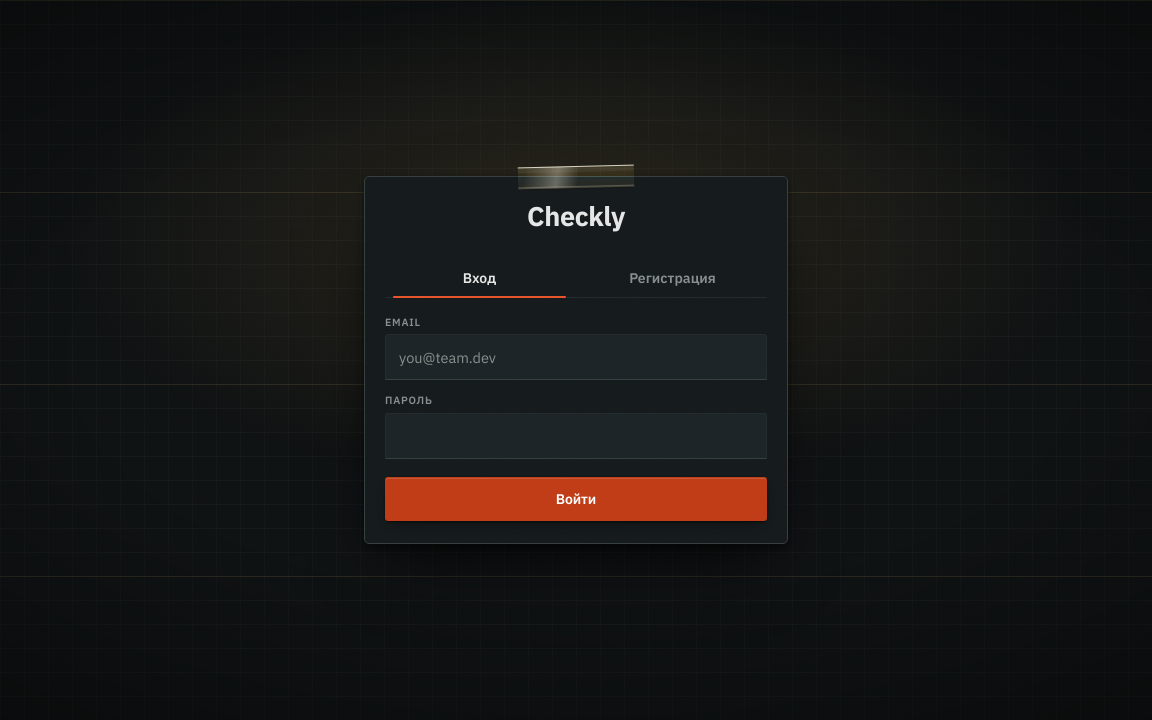
Test case: LoginPage › rejects a short password
The width and height of the screenshot is (1152, 720).
Type "a@b.com" into the field labelled "Email".
click(576, 357); type("a@b.com")  # box [385, 334, 767, 380]
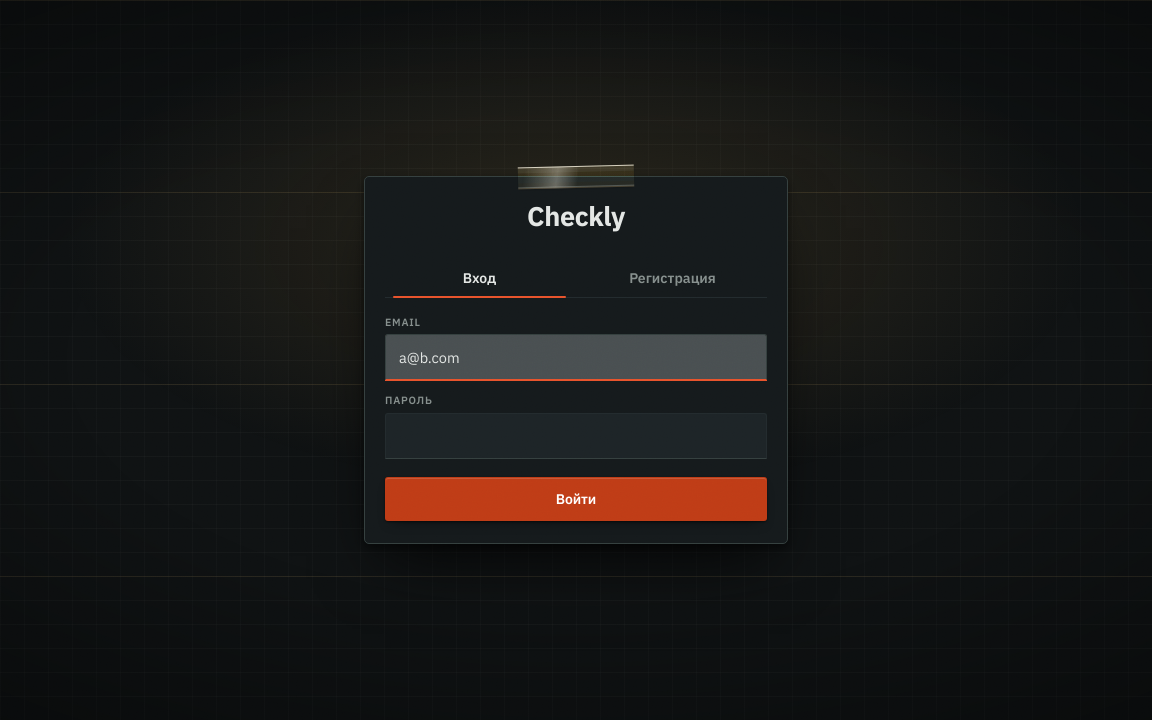
Type "123" into the password field labelled "Пароль".
click(576, 436); type("123")  # box [385, 413, 767, 459]
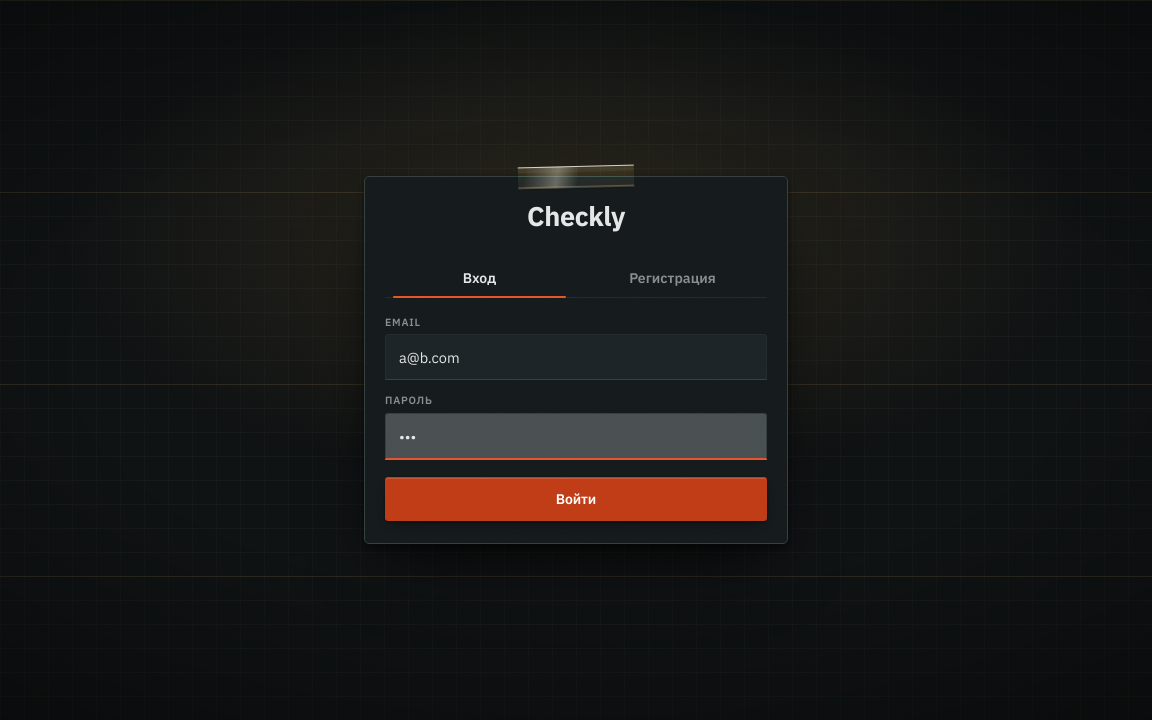
Click the button "Войти".
click(576, 499)  # box [385, 477, 767, 521]
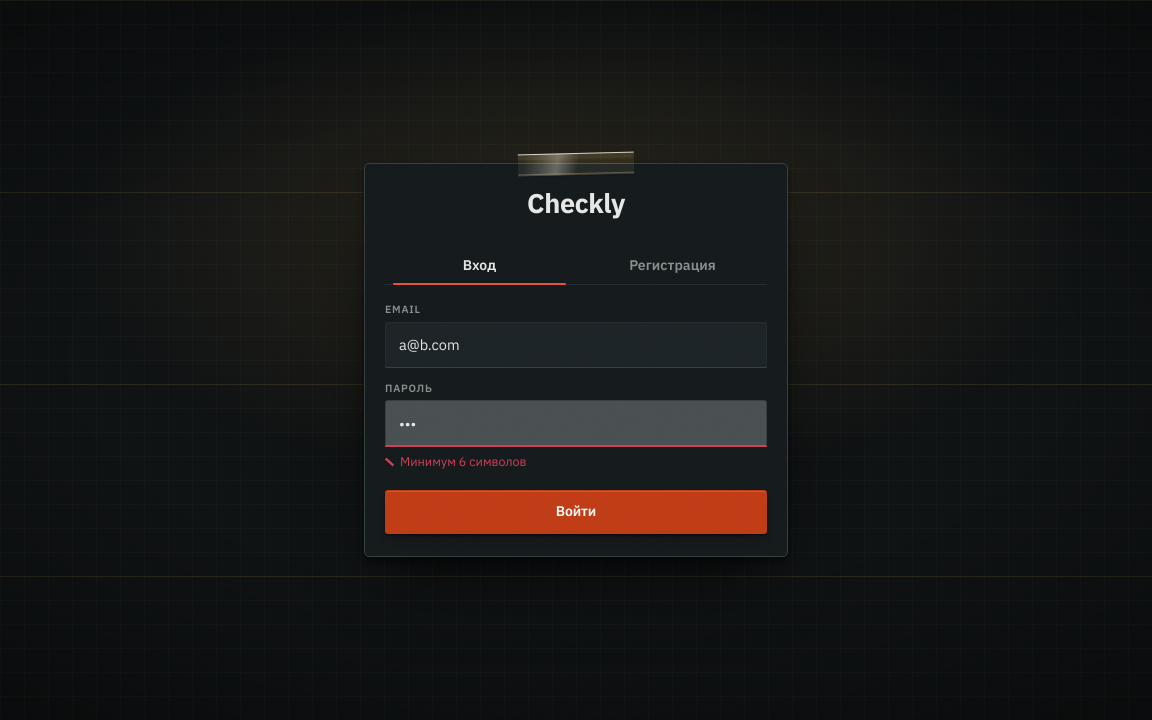
Check: the text "Минимум 6 символов" is shown, box [400, 453, 526, 469]
